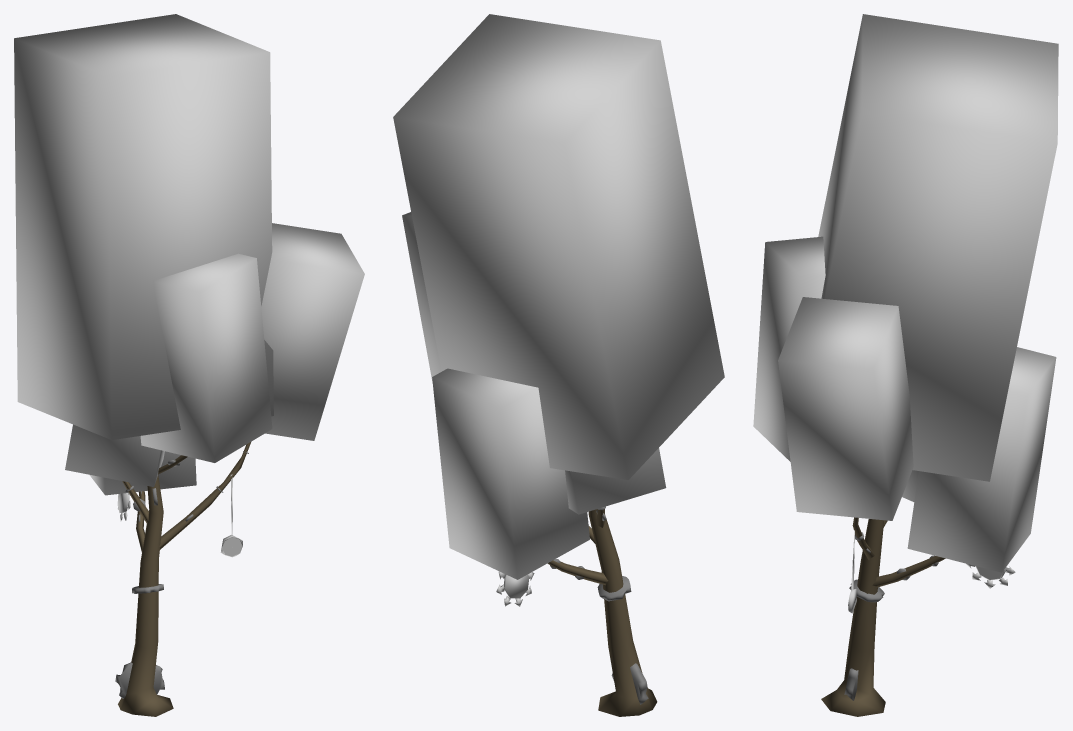
File: sm_tree_clockwork_02_LOD3.fbx
The picture shows the model from 3 angles, left to right: view 1: azimuth 30°, elevation 25°; view 2: azimuth 150°, elevation 25°; view 3: azimuth 270°, elevation 25°; orthographic projection. The views are drawn at different scales.
Parts seen in each view (by area): view 1: sm_tree_clockwork_02_LOD3; view 2: sm_tree_clockwork_02_LOD3; view 3: sm_tree_clockwork_02_LOD3.
Part boxes in pixels (box(x1,y1,x2,y2)): sm_tree_clockwork_02_LOD3: box(14, 14, 364, 716); sm_tree_clockwork_02_LOD3: box(393, 14, 724, 716); sm_tree_clockwork_02_LOD3: box(753, 14, 1058, 716).
Bounding box in the file's own units: 6.62 × 6.15 × 14.97.
